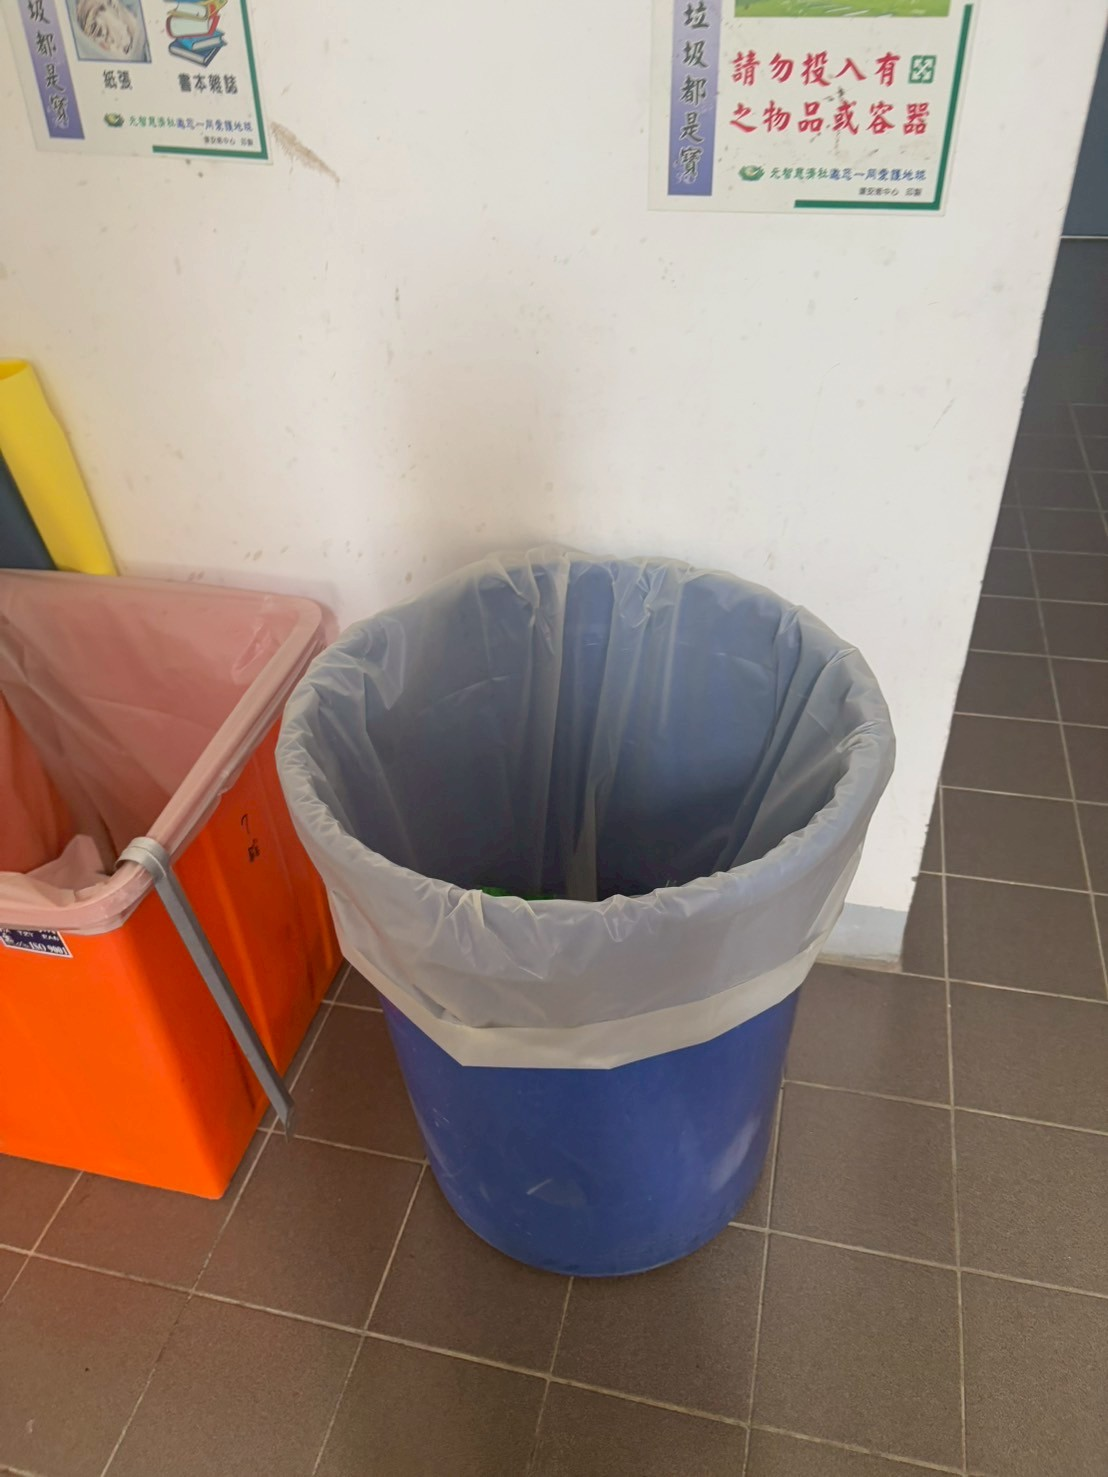normal_bin: (249, 530, 949, 1309)
